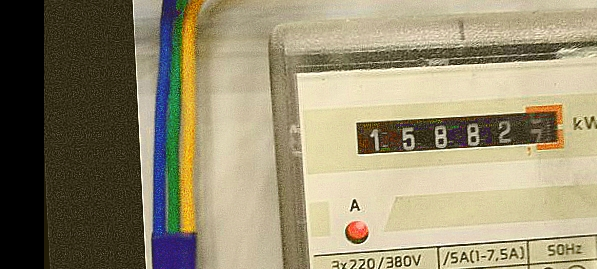1: (369, 123, 383, 153)
2: (496, 117, 514, 144)
5: (400, 123, 418, 154)
7: (529, 125, 543, 143)
8: (465, 119, 482, 148), (432, 122, 449, 150)
screen: (344, 95, 573, 167)
